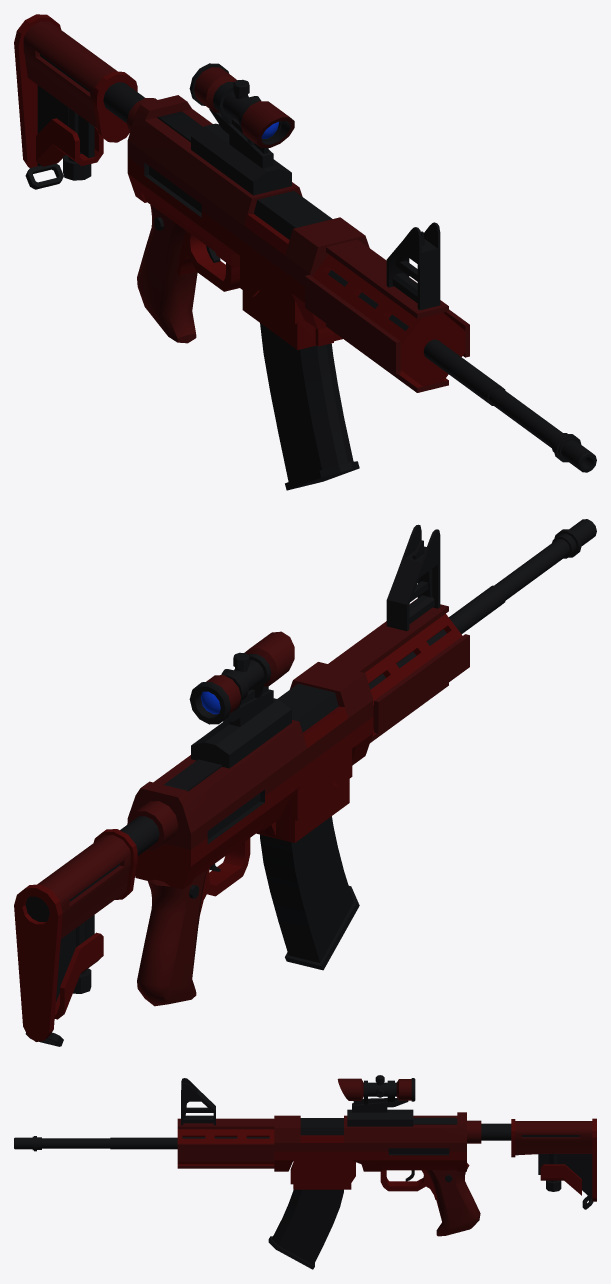
File: mis_assault_rifle.fbx
The picture shows the model from 3 angles, top to bottom: view 1: azimuth 30°, elevation 25°; view 2: azimuth 150°, elevation 25°; view 3: azimuth 270°, elevation 25°; orthographic projection. The views are drawn at different scales.
Visible parts, largest first — view 1: mergedBlocks; view 2: mergedBlocks; view 3: mergedBlocks.
Part boxes in pixels (bbox=[...]): mergedBlocks: bbox=[14, 14, 596, 490]; mergedBlocks: bbox=[14, 519, 596, 1046]; mergedBlocks: bbox=[14, 1075, 596, 1269].
Size of the model in its own units: 4.68 by 21.58 by 60.5.
